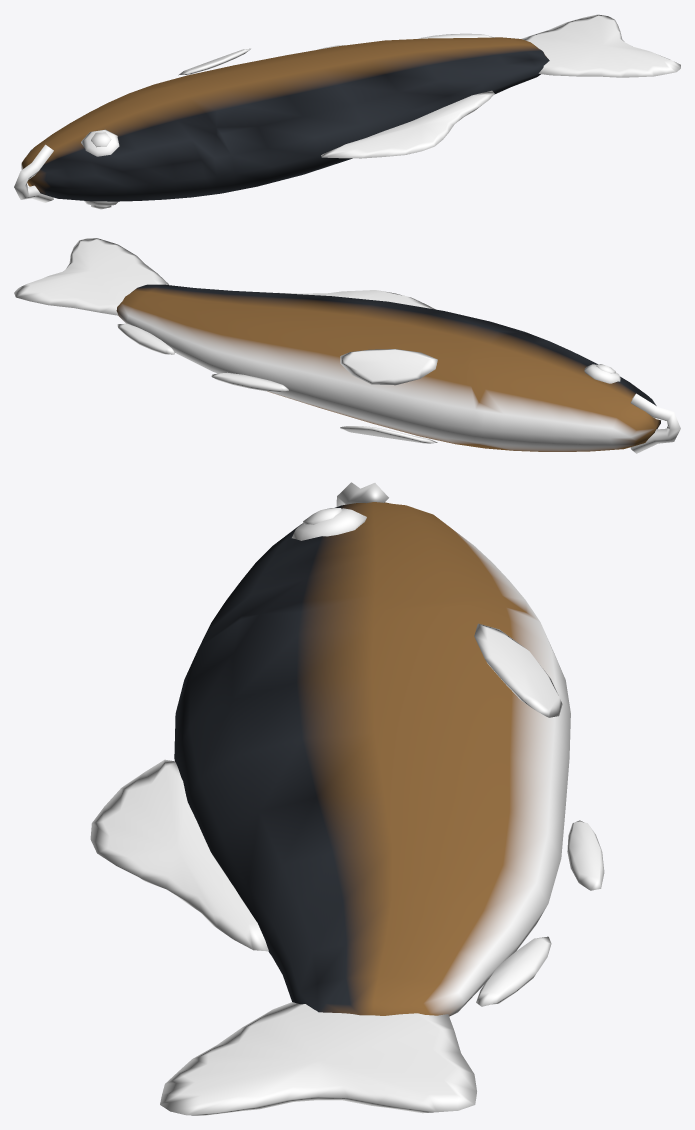
File: RAW_fish.fbx
3 views of the same model, one above another, from view 1: azimuth 30°, elevation 25°; view 2: azimuth 150°, elevation 25°; view 3: azimuth 270°, elevation 25° (orthographic). The views are drawn at different scales.
Parts seen in each view (by area): view 1: RAW_fish; view 2: RAW_fish; view 3: RAW_fish.
Part boxes in pixels (x1,y1,x2,y2): RAW_fish: (14,14,680,209); RAW_fish: (14,238,680,453); RAW_fish: (90,482,604,1115).
Size of the model in its own units: 0.2907 by 0.038 by 0.1034.
